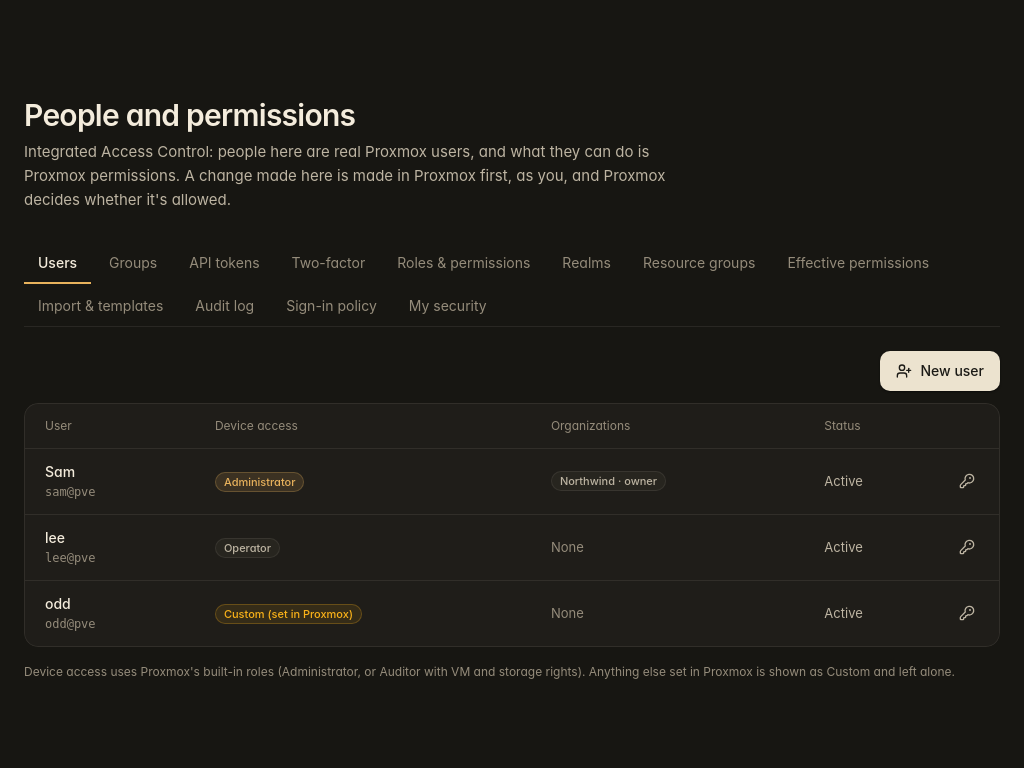
it: the live access screen › deletes only after the user's name is typed
The width and height of the screenshot is (1024, 768).
Later steps or results of the test are not shown.
Click the text "lee@pve" at (70,558), box [45,548,96,566]
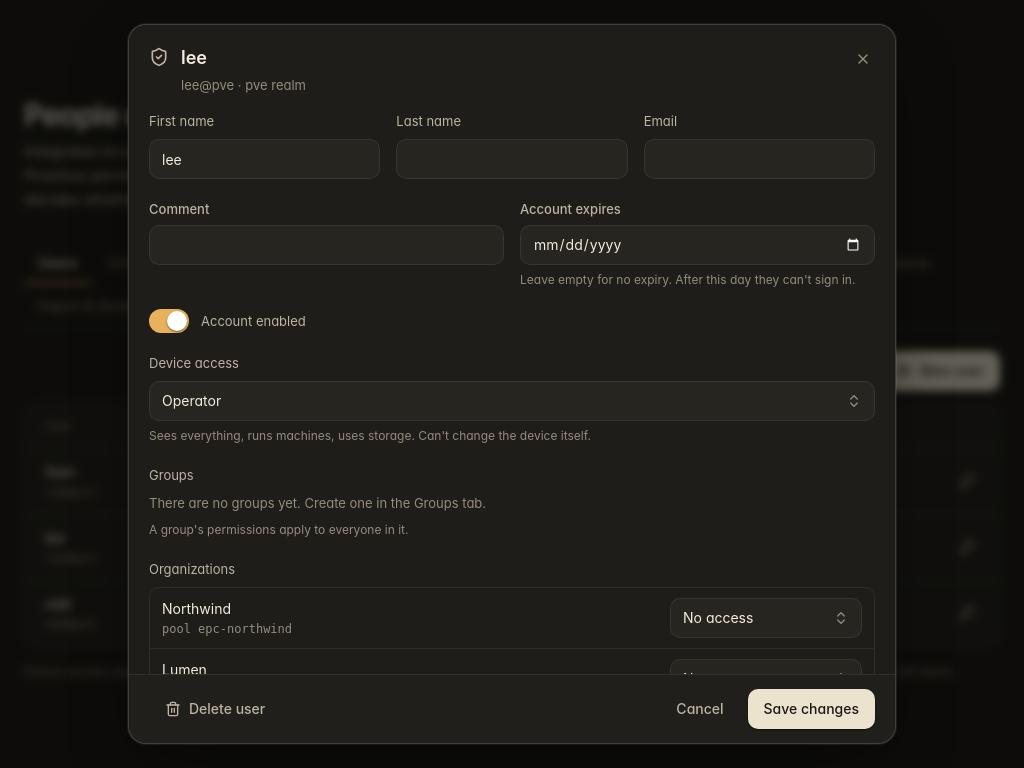
Click the button "Delete user" at (215,709), box [149,689,281,729]
(page scrolled)
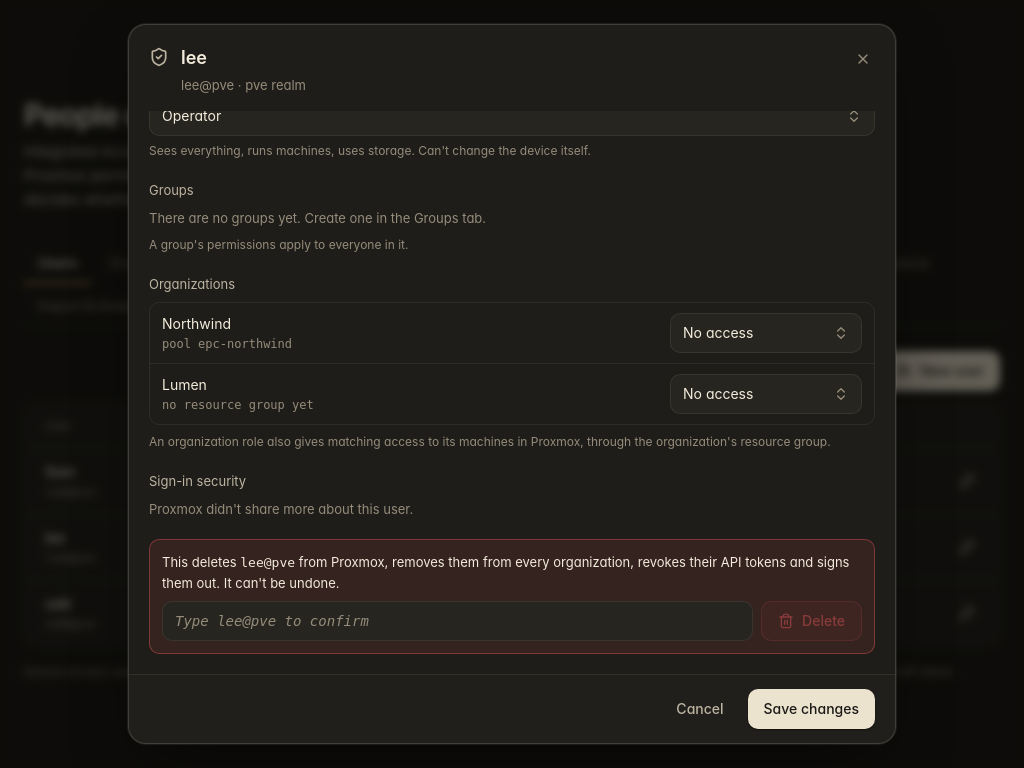
Check: the button "Delete" is disabled, box [761,601,862,641]
Type "lee@pve" into the field with placeholder "Type lee@pve to confirm" at (458,621), box [162,601,753,641]
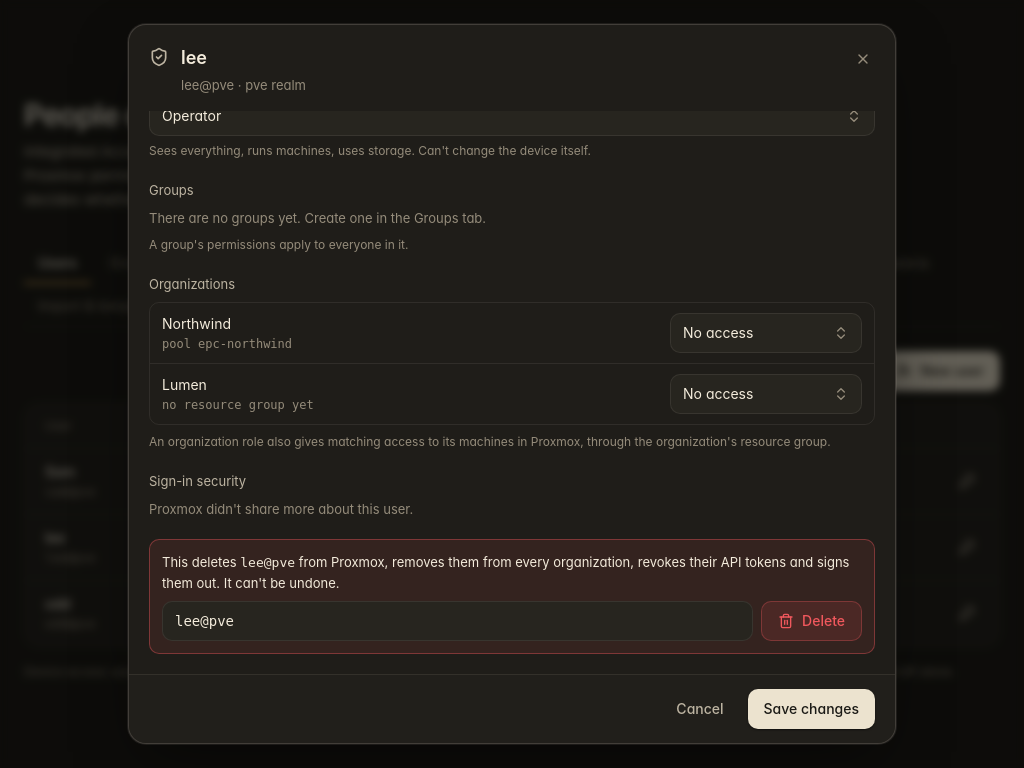
Check: the button "Delete" is enabled, box [761,601,862,641]
